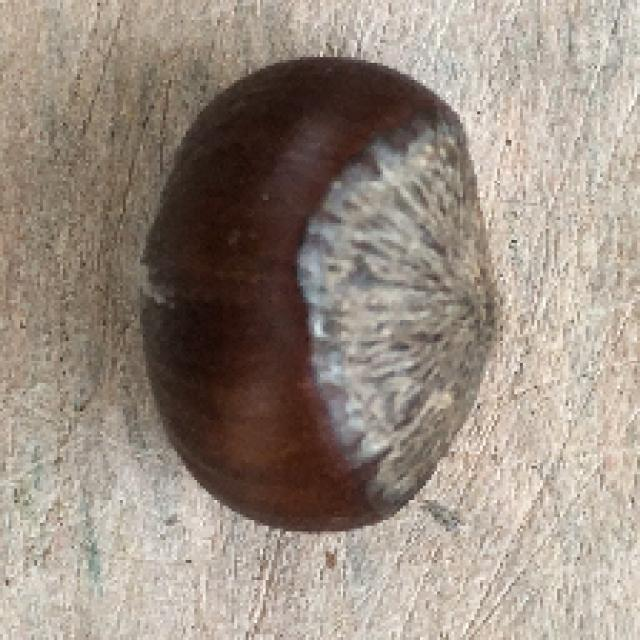damagedHazelnut: (130, 53, 502, 536)
